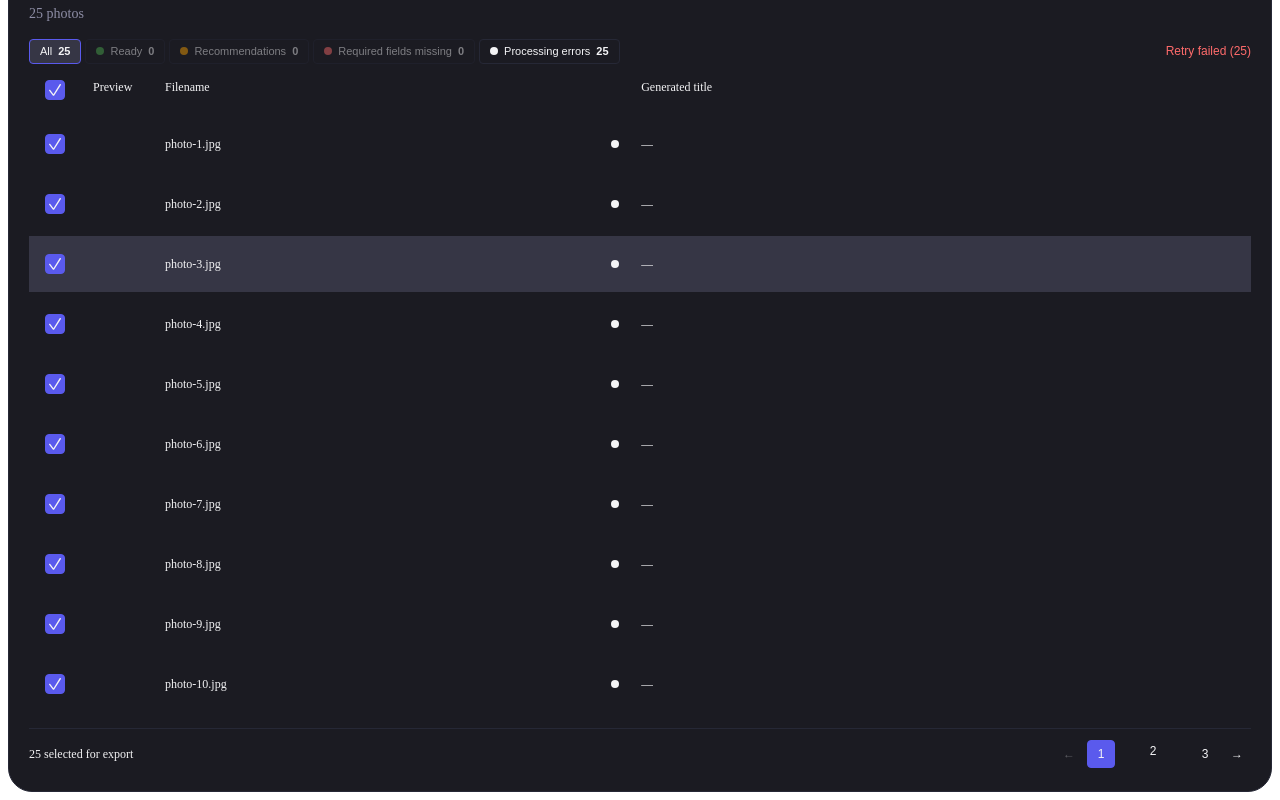
Test case: смена страницы пагинацией не меняет выбранное фото
(page scrolled)
Click the button "2". click: (1153, 751)
box: [1139, 737, 1167, 765]
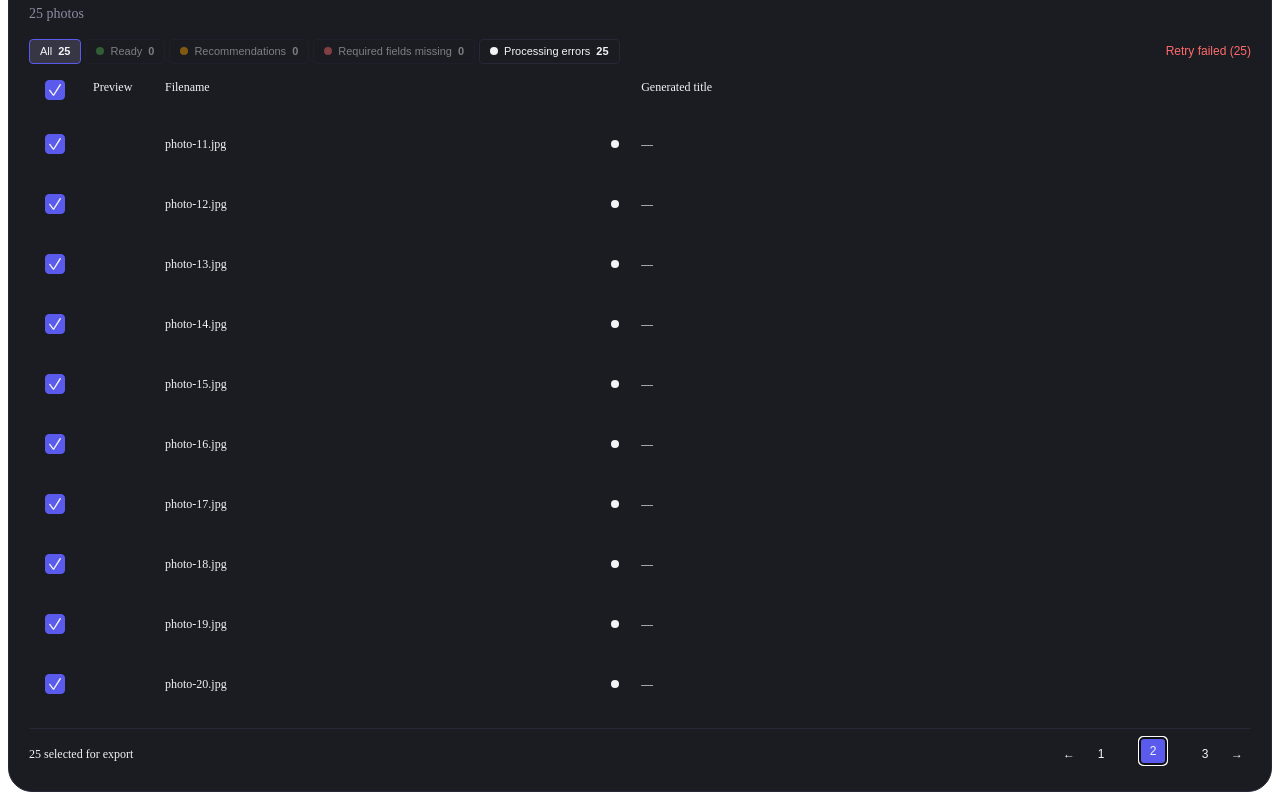
expect the text "photo-11.jpg" is shown: met, box [165, 137, 226, 151]
